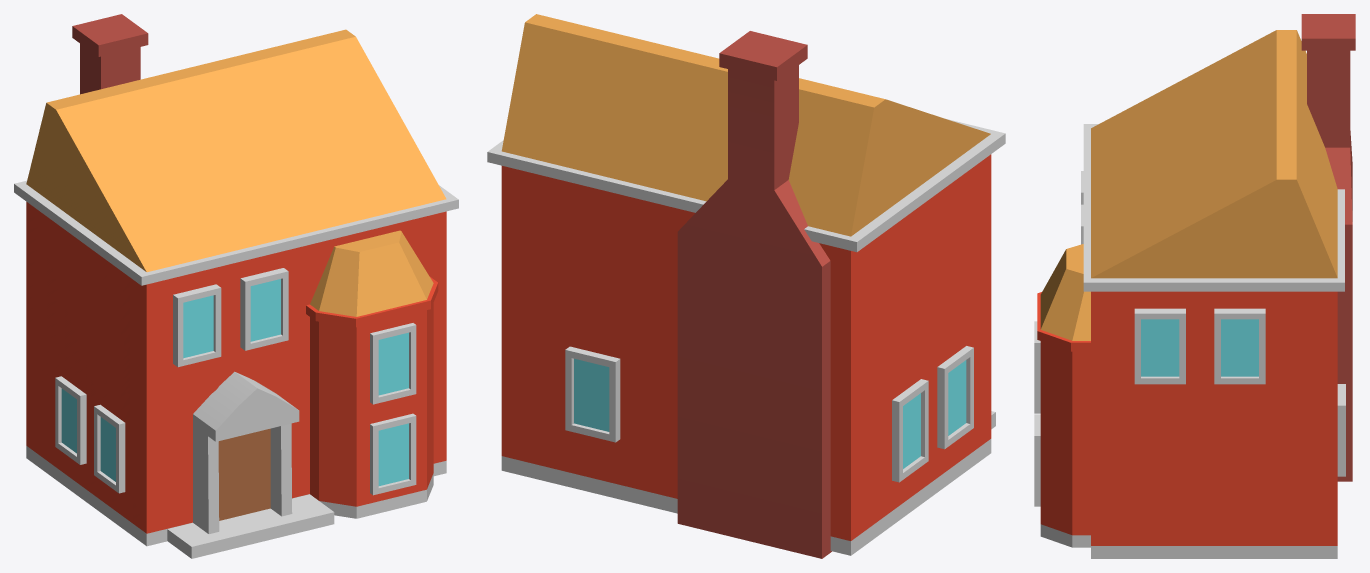
File: new_house5.fbx
3 views of the same model, side by side, from view 1: azimuth 30°, elevation 25°; view 2: azimuth 150°, elevation 25°; view 3: azimuth 270°, elevation 25° (orthographic). The views are drawn at different scales.
Parts seen in each view (by area): view 1: дом5; view 2: дом5; view 3: дом5.
Part boxes in pixels (x1=…): дом5: x1=14, y1=14, x2=458, y2=558; дом5: x1=487, y1=14, x2=1005, y2=558; дом5: x1=1034, y1=14, x2=1355, y2=558.
Bounding box in the file's own units: 191 × 237 × 162.
